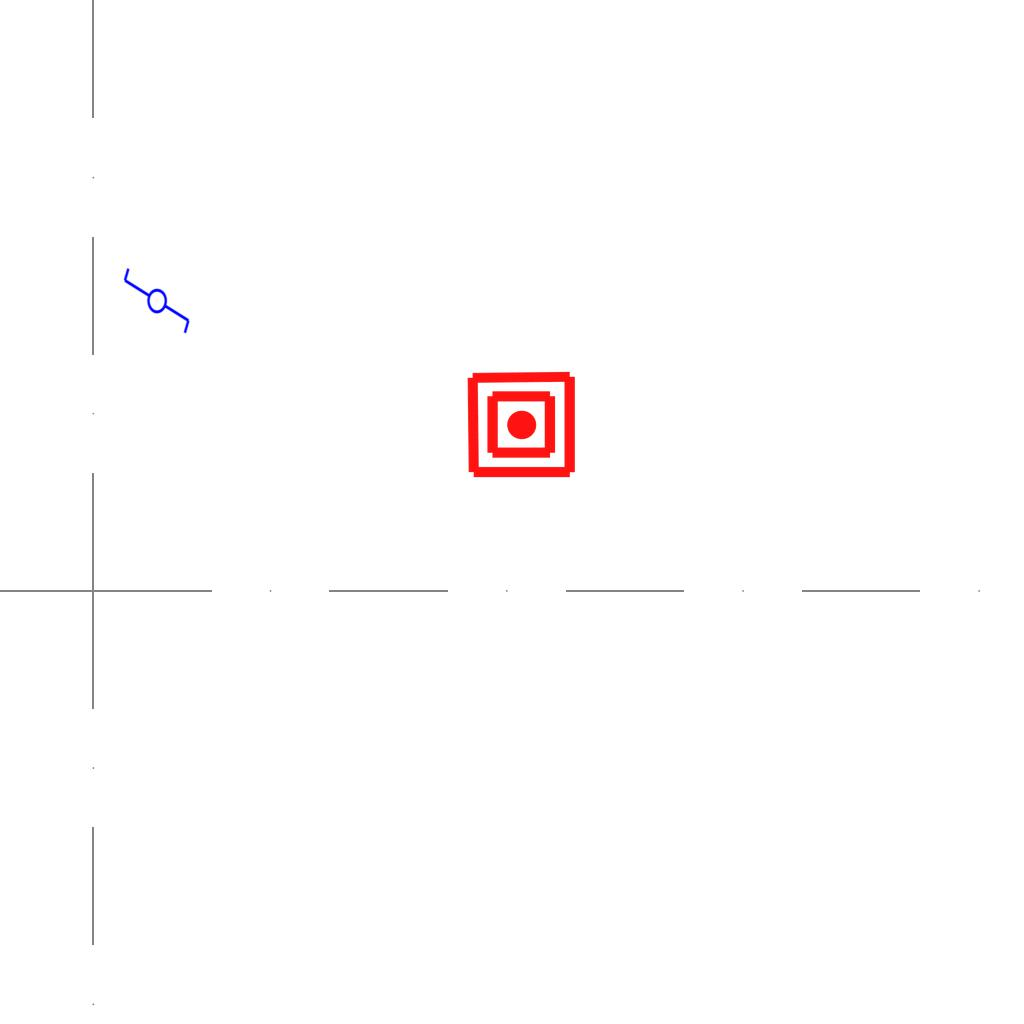NAM-Nichtautomatischer_Melder: (465, 368, 578, 481)
Wechselschalter: (120, 266, 192, 344)
